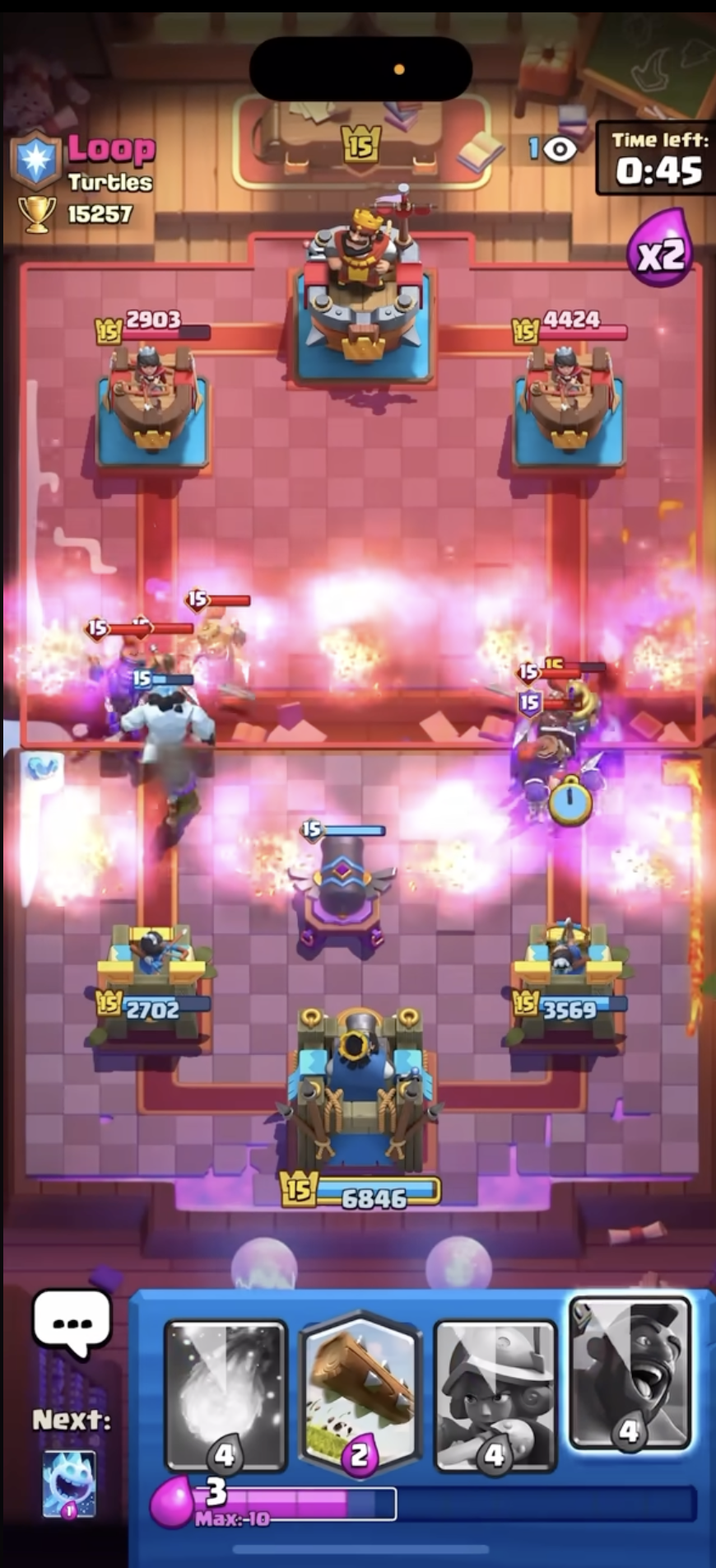evo-royal-recruits: (178, 583, 268, 698), (81, 610, 154, 722), (510, 690, 578, 783)
zappie: (545, 654, 618, 726)
